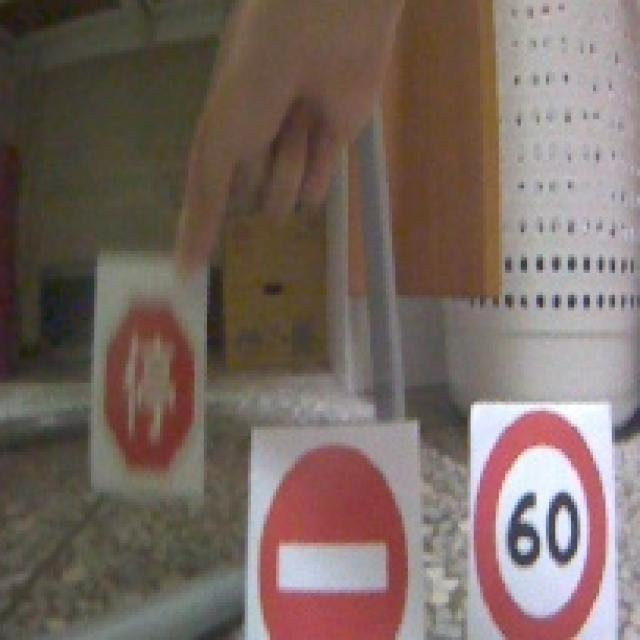DoNotEnterSign: (247, 426, 417, 640)
